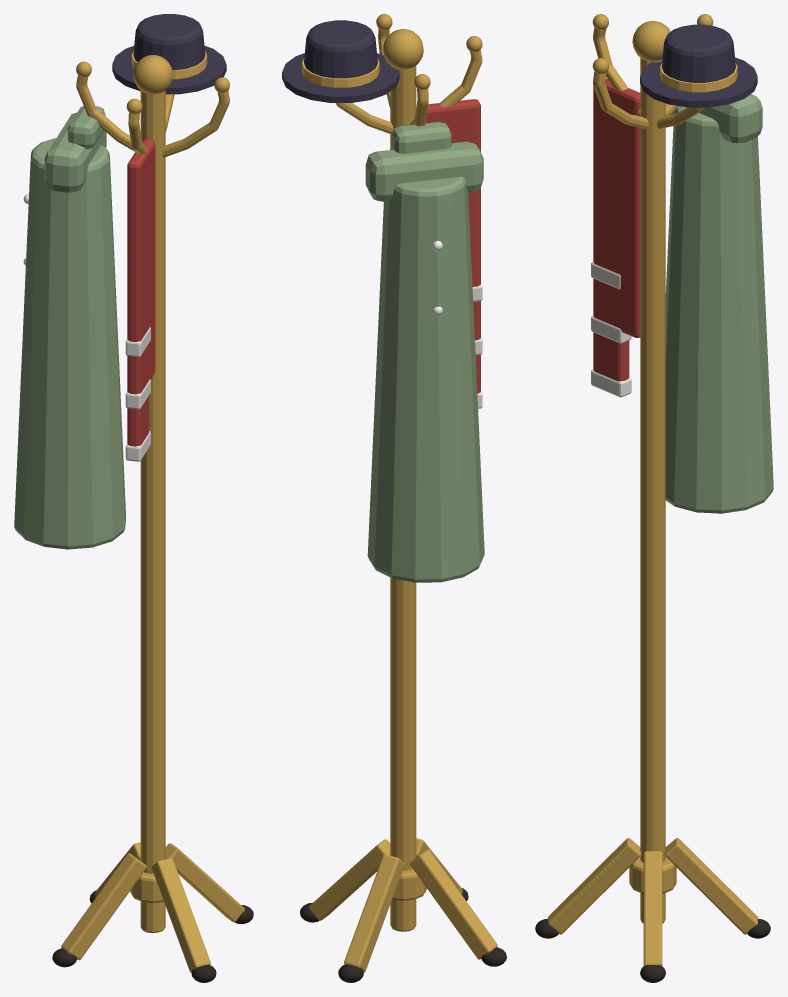
File: hh_cat_coat_stand.glb
The picture shows the model from 3 angles, left to right: view 1: azimuth 30°, elevation 25°; view 2: azimuth 150°, elevation 25°; view 3: azimuth 270°, elevation 25°; orthographic projection. The views are drawn at different scales.
Visible parts, largest first — view 1: coat.001, pole, scarf, hat_crown, foot.002, foot.003, coat, hat_brim, foot, scarf.001, finial, hook.003 (+3 smaller); view 2: coat.001, pole, coat, hat_crown, foot.002, scarf, foot.001, hat_brim, foot, coat_collar, finial, hat_band (+4 smaller); view 3: coat.001, pole, scarf, scarf.001, hat_crown, foot.003, foot.001, hat_brim, foot, coat, finial, hook.003 (+5 smaller).
Boxes of the visible parts, x1=… form: coat.001: x1=14, y1=138, x2=125, y2=549; pole: x1=140, y1=90, x2=165, y2=933; scarf: x1=127, y1=151, x2=149, y2=446; hat_crown: x1=133, y1=14, x2=205, y2=70; foot.002: x1=61, y1=853, x2=146, y2=960; foot.003: x1=152, y1=858, x2=210, y2=972; coat: x1=44, y1=112, x2=106, y2=192; hat_brim: x1=112, y1=46, x2=226, y2=94; foot: x1=165, y1=843, x2=244, y2=922; scarf.001: x1=135, y1=139, x2=155, y2=379; finial: x1=133, y1=55, x2=172, y2=94; hook.003: x1=162, y1=91, x2=229, y2=157; coat.001: x1=367, y1=176, x2=484, y2=582; pole: x1=390, y1=65, x2=416, y2=931; coat: x1=365, y1=141, x2=483, y2=201; hat_crown: x1=304, y1=20, x2=377, y2=78; foot.002: x1=409, y1=849, x2=497, y2=959; scarf: x1=446, y1=99, x2=480, y2=393; foot.001: x1=344, y1=854, x2=404, y2=972; hat_brim: x1=282, y1=53, x2=399, y2=102; foot: x1=309, y1=839, x2=390, y2=920; coat_collar: x1=391, y1=122, x2=451, y2=153; finial: x1=383, y1=29, x2=423, y2=69; hat_band: x1=302, y1=58, x2=379, y2=87; coat.001: x1=665, y1=106, x2=773, y2=513; pole: x1=640, y1=58, x2=665, y2=923; scarf: x1=593, y1=78, x2=629, y2=381; scarf.001: x1=611, y1=87, x2=640, y2=337; hat_crown: x1=661, y1=24, x2=735, y2=82; foot.003: x1=548, y1=838, x2=641, y2=934; foot.001: x1=664, y1=838, x2=757, y2=934; hat_brim: x1=640, y1=57, x2=757, y2=107; foot: x1=643, y1=851, x2=662, y2=966; coat: x1=671, y1=94, x2=762, y2=143; finial: x1=632, y1=21, x2=670, y2=61; hook.003: x1=593, y1=71, x2=648, y2=128.
Bounding box in the file's own units: 0.4 × 1.7 × 0.4.
